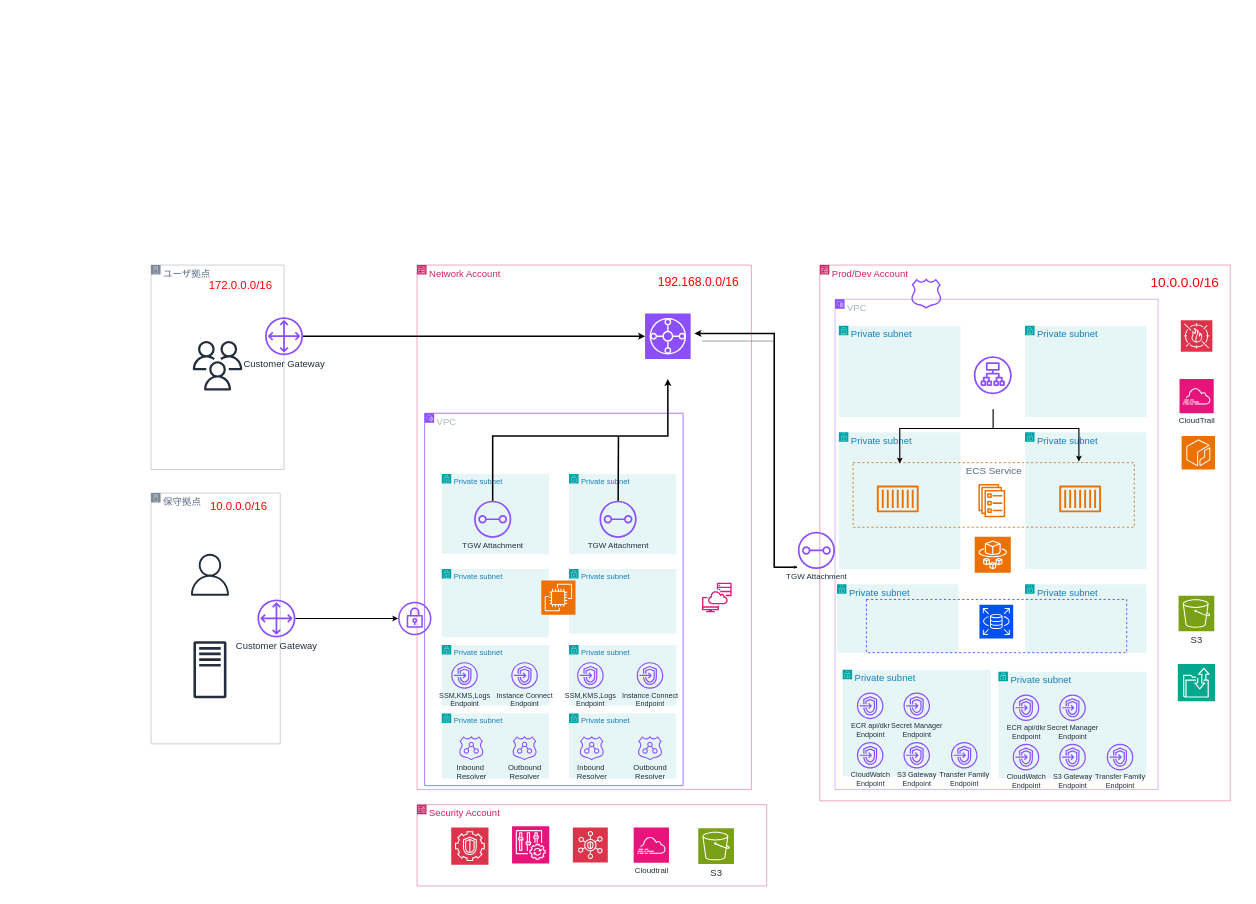
This 1256x904 diagram has some shape labels left out. The shapes that lost their labels are listed below. From the top down, each one's centre as x and y in pixels, then its label:
the point at 926,293: Local Hosted Zone
the point at 668,336: Transit Gateway
the point at 1196,336: WAF
the point at 217,365: User
the point at 993,375: ALB
the point at 1198,452: ECR
the point at 210,574: 運用保守ユーザ
the point at 992,554: ECS/Fargate
the point at 558,597: 運用保守用 EC2
the point at 717,597: SessionManager
the point at 414,618: VGW
the point at 996,621: Amazon RDS
the point at 210,669: Backup server
the point at 1196,682: Transfer Family
the point at 469,846: Guardduty
the point at 530,845: Config
the point at 590,844: SecurityHub
